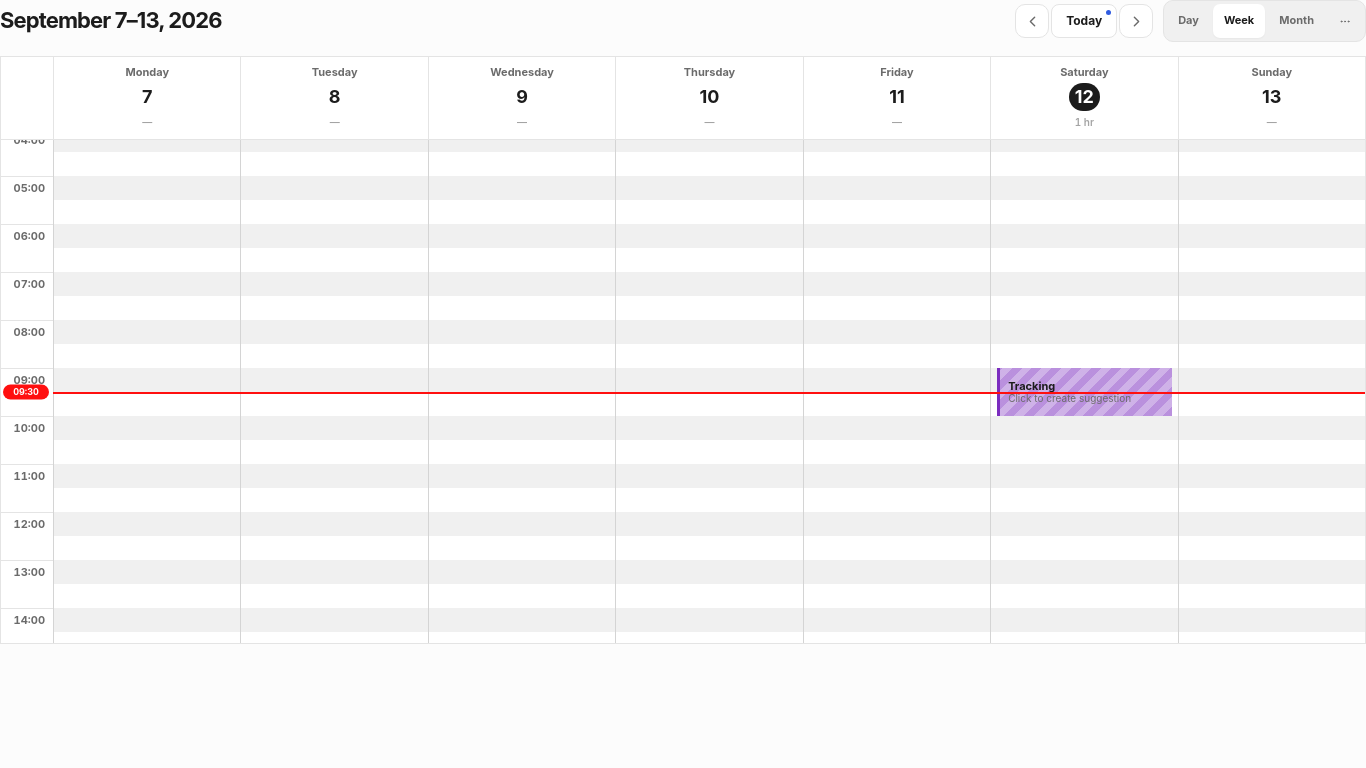
CalendarScreen › opens a label suggestion from the live week block
(page scrolled)
Expected: the text "Click to create suggestion" is shown, [1008, 392, 1131, 404]
Click the button "Tracking Click to create suggestion": point(1084, 392) [997, 368, 1172, 416]
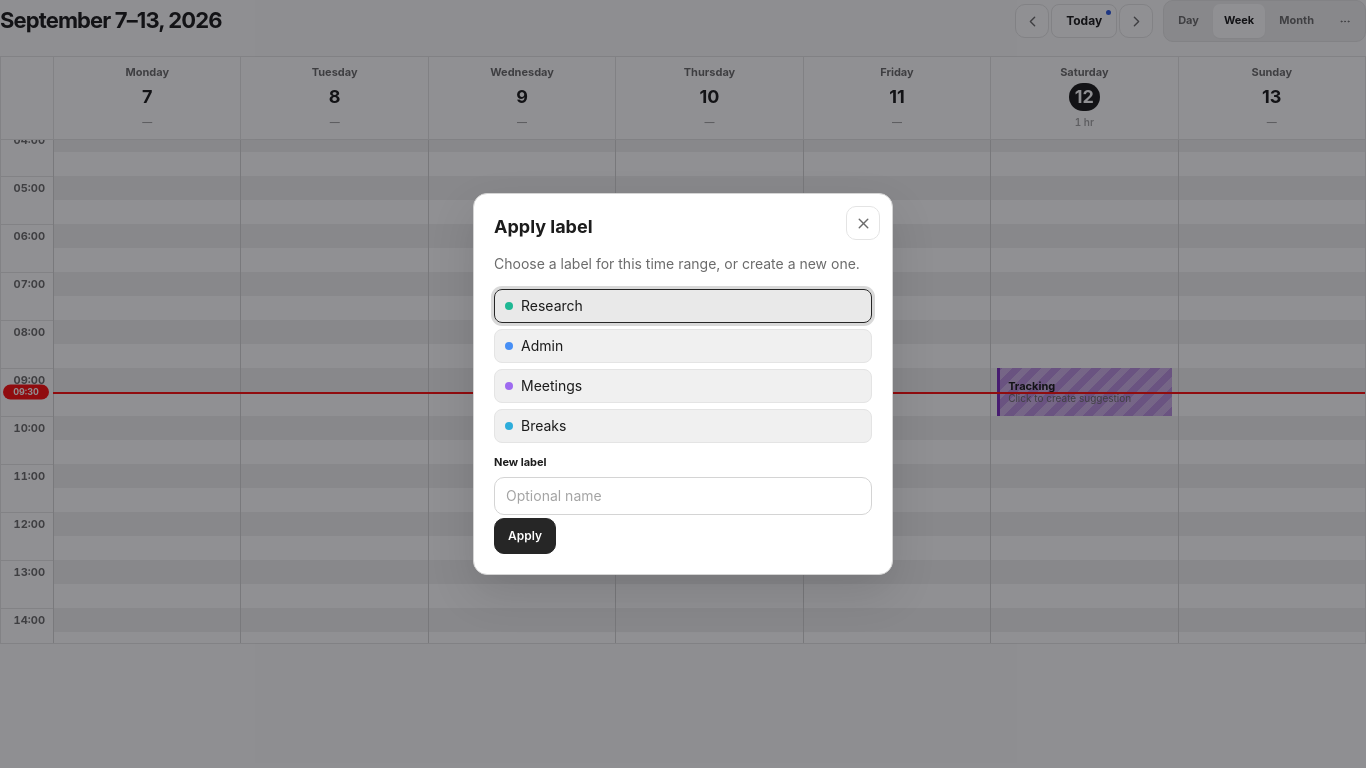
Now the heading "Apply label" is shown, box [494, 216, 593, 237]
